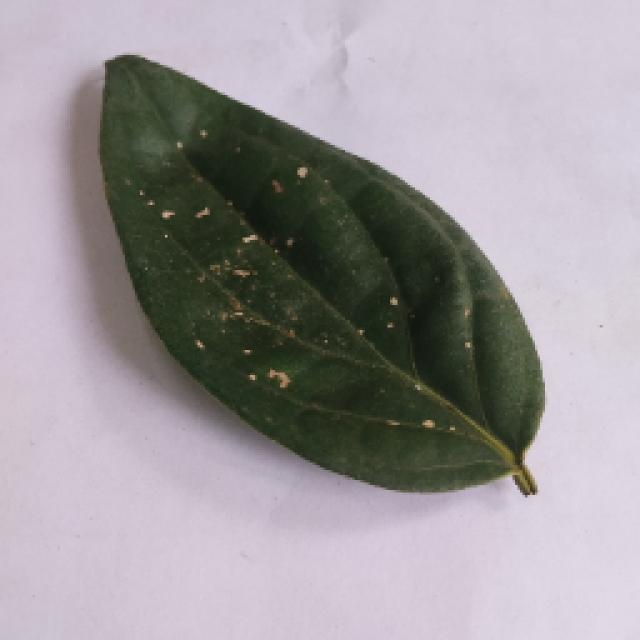pollu-disease: (77, 48, 565, 508)
